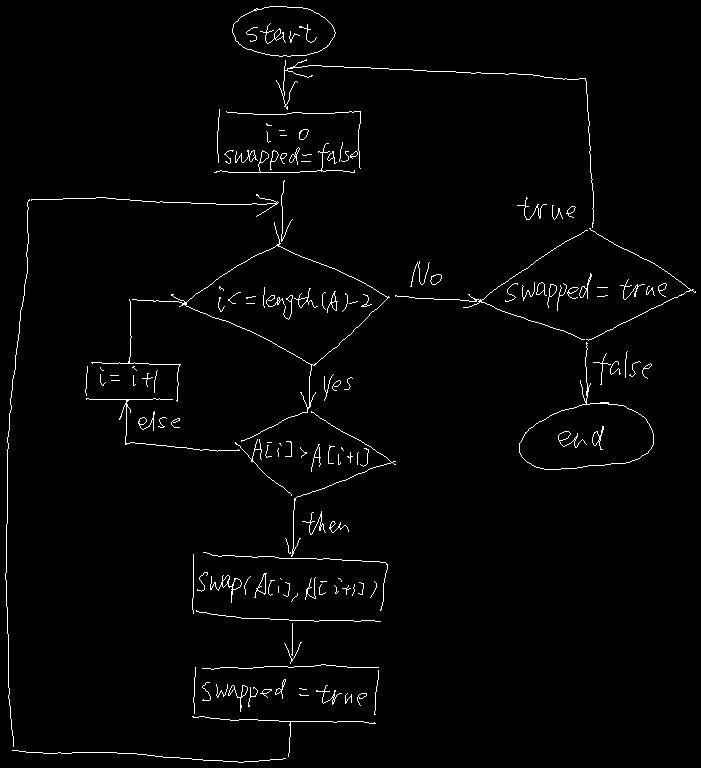arrow: (5, 194, 290, 762), (284, 59, 593, 227), (119, 399, 239, 451), (128, 294, 186, 363), (274, 180, 292, 244), (395, 294, 481, 307), (276, 60, 297, 109), (285, 498, 300, 556), (300, 364, 315, 412), (284, 623, 301, 663), (580, 342, 590, 403)
decision: (182, 244, 389, 365), (478, 228, 695, 340), (235, 411, 395, 499)
process: (192, 552, 387, 621), (192, 664, 378, 723), (214, 109, 360, 172), (85, 362, 180, 401)
terminator: (519, 402, 653, 469), (232, 6, 335, 56)
text: (224, 123, 357, 171), (505, 273, 666, 310), (197, 572, 376, 602), (202, 679, 366, 711), (218, 286, 371, 319), (251, 439, 368, 471), (593, 351, 651, 384), (100, 366, 157, 392), (246, 23, 316, 43), (517, 197, 575, 219), (302, 511, 348, 534), (558, 426, 603, 449), (138, 411, 179, 430), (410, 261, 441, 286), (324, 374, 352, 400)
